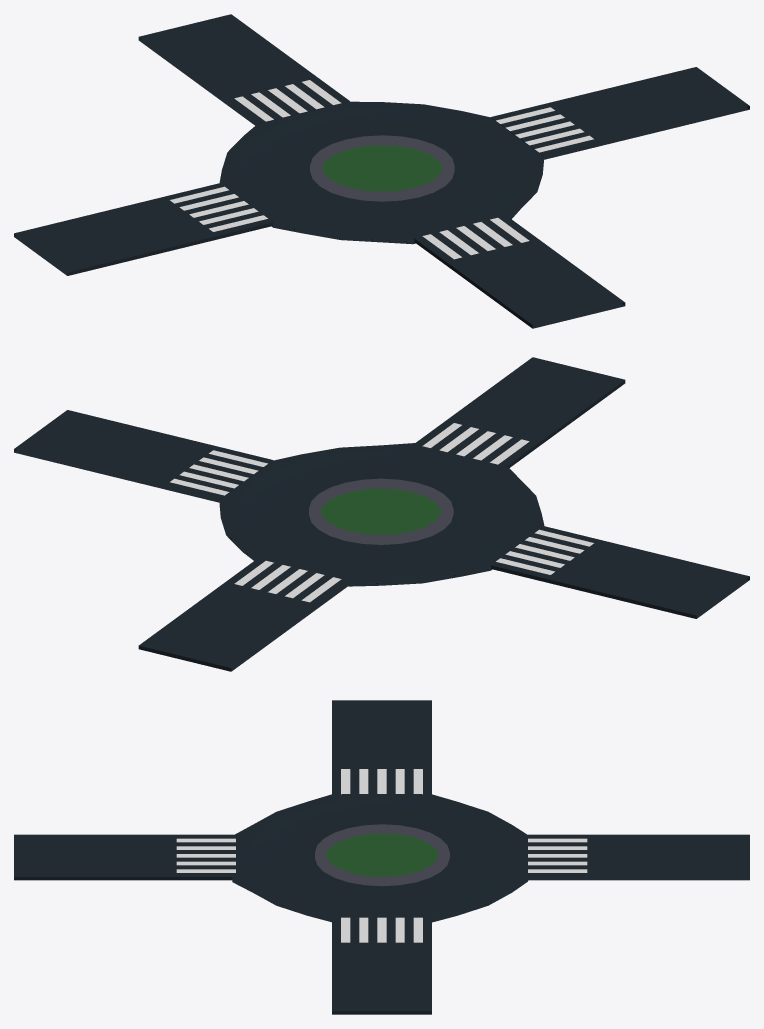
Rendered from rondo ulica.fbx.
The picture shows the model from 3 angles, top to bottom: view 1: azimuth 30°, elevation 25°; view 2: azimuth 150°, elevation 25°; view 3: azimuth 270°, elevation 25°; orthographic projection. The views are drawn at different scales.
Visible parts, largest first — view 1: rondo, Cube.008, Cube.007, Cube.026, Cube.025; view 2: rondo, Cube.008, Cube.007, Cube.025, Cube.026; view 3: rondo, Cube.025, Cube.026, Cube.007, Cube.008.
Boxes of the visible parts, left/top/right/bottom form: rondo: left=219, top=101, right=543, bottom=244; Cube.008: left=14, top=183, right=273, bottom=275; Cube.007: left=490, top=67, right=749, bottom=159; Cube.026: left=414, top=215, right=625, bottom=328; Cube.025: left=138, top=14, right=349, bottom=125; rondo: left=219, top=443, right=544, bottom=586; Cube.008: left=490, top=526, right=749, bottom=618; Cube.007: left=14, top=410, right=273, bottom=502; Cube.025: left=138, top=558, right=349, bottom=671; Cube.026: left=414, top=357, right=625, bottom=467; rondo: left=232, top=794, right=528, bottom=922; Cube.025: left=528, top=834, right=749, bottom=880; Cube.026: left=14, top=834, right=235, bottom=880; Cube.007: left=332, top=917, right=431, bottom=1014; Cube.008: left=332, top=700, right=431, bottom=794.
Size of the model in its own units: 6631 by 81.18 by 6631.
